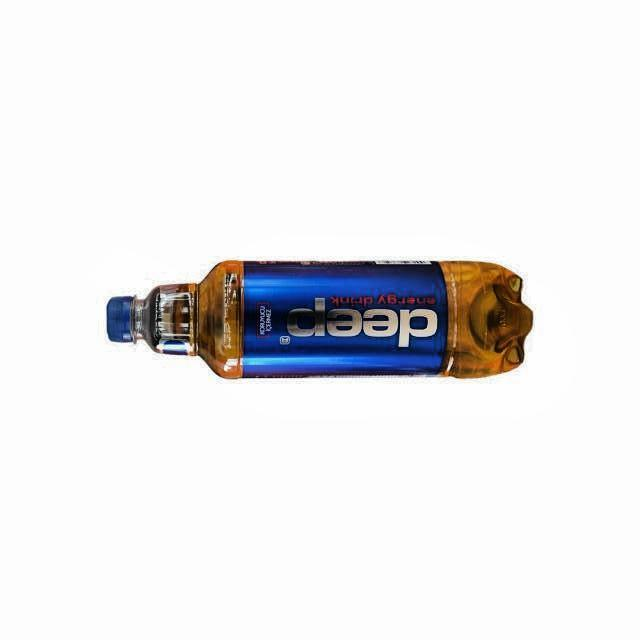plastic: (106, 261, 532, 378)
